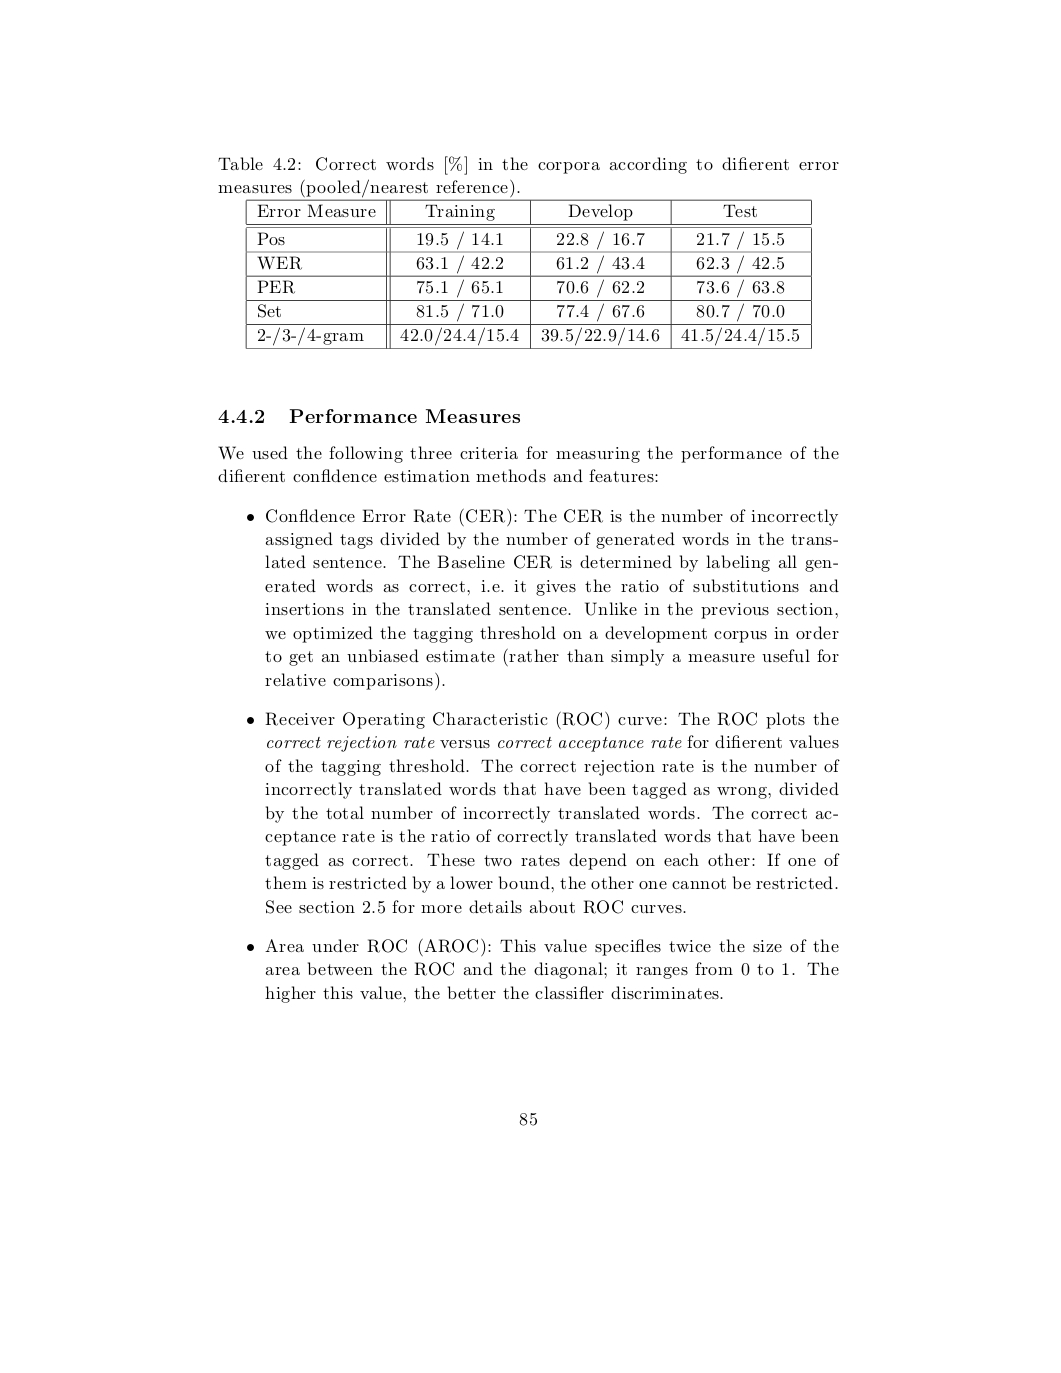Table: (245, 199, 811, 348)
